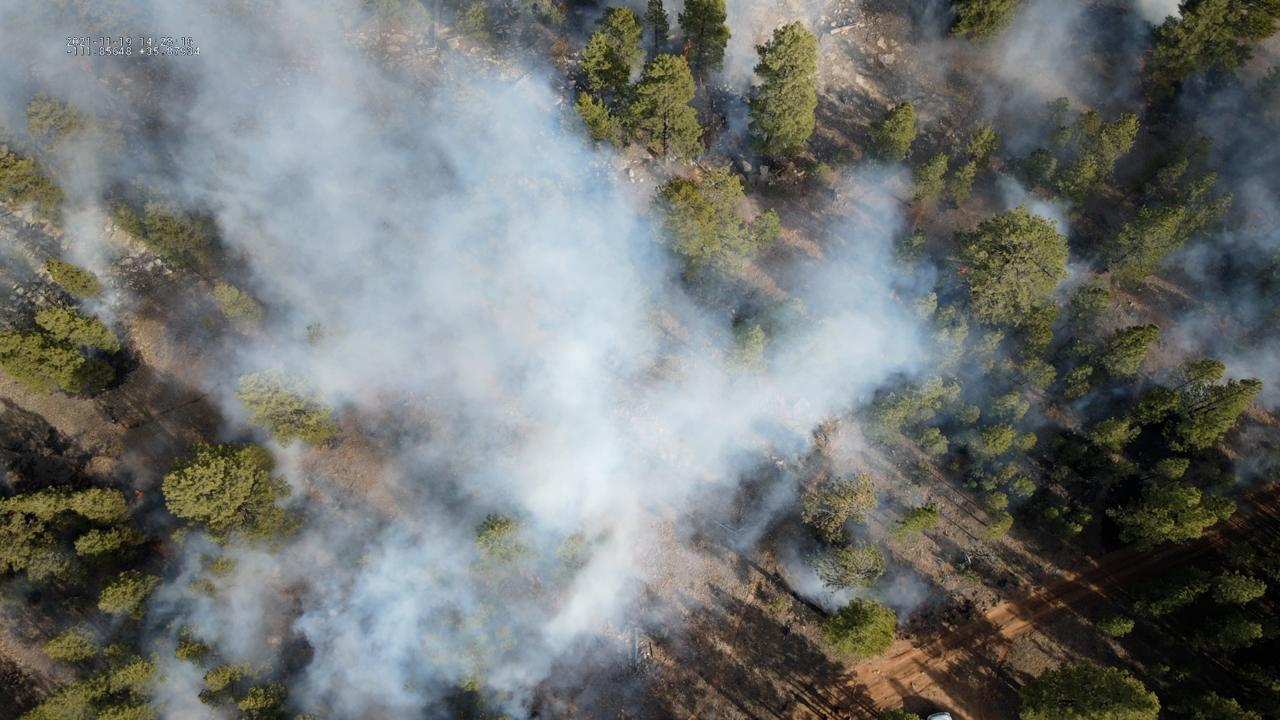fire: (683, 39, 692, 57), (959, 266, 969, 276), (134, 488, 143, 499)
smoke: (0, 0, 1280, 720)
